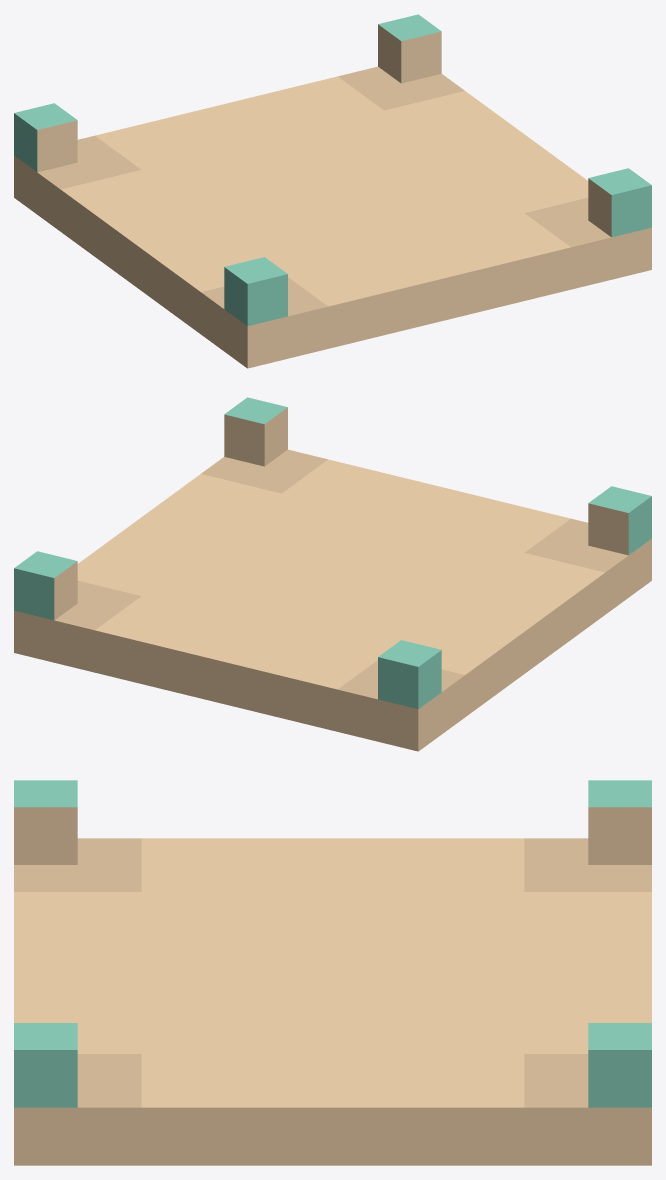
The model's file is Way_X-Cross.fbx.
The picture shows the model from 3 angles, top to bottom: view 1: azimuth 30°, elevation 25°; view 2: azimuth 150°, elevation 25°; view 3: azimuth 270°, elevation 25°; orthographic projection. The views are drawn at different scales.
Visible parts, largest first — view 1: Way_X-Cross; view 2: Way_X-Cross; view 3: Way_X-Cross.
Boxes of the visible parts, bbox=[...] form: Way_X-Cross: bbox=[14, 14, 651, 368]; Way_X-Cross: bbox=[14, 397, 651, 751]; Way_X-Cross: bbox=[14, 780, 651, 1165].
Bounding box in the file's own units: 1 × 0.2 × 1.
